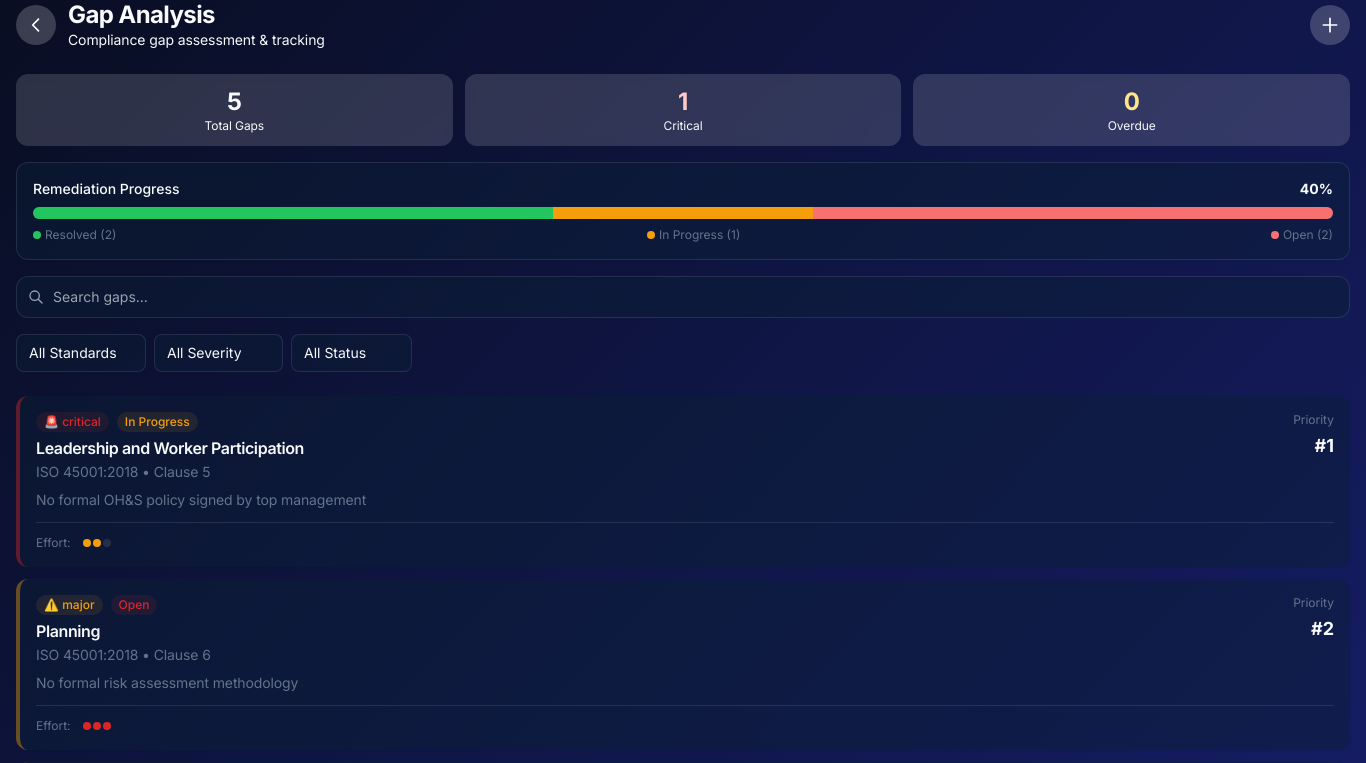
it: ComplianceGapAnalysis › filtering › shows empty state when search matches nothing
Type "zzzznoexist12345" into the field with placeholder "Search gaps..." at [683, 297], box left=16, top=276, right=1350, bottom=318
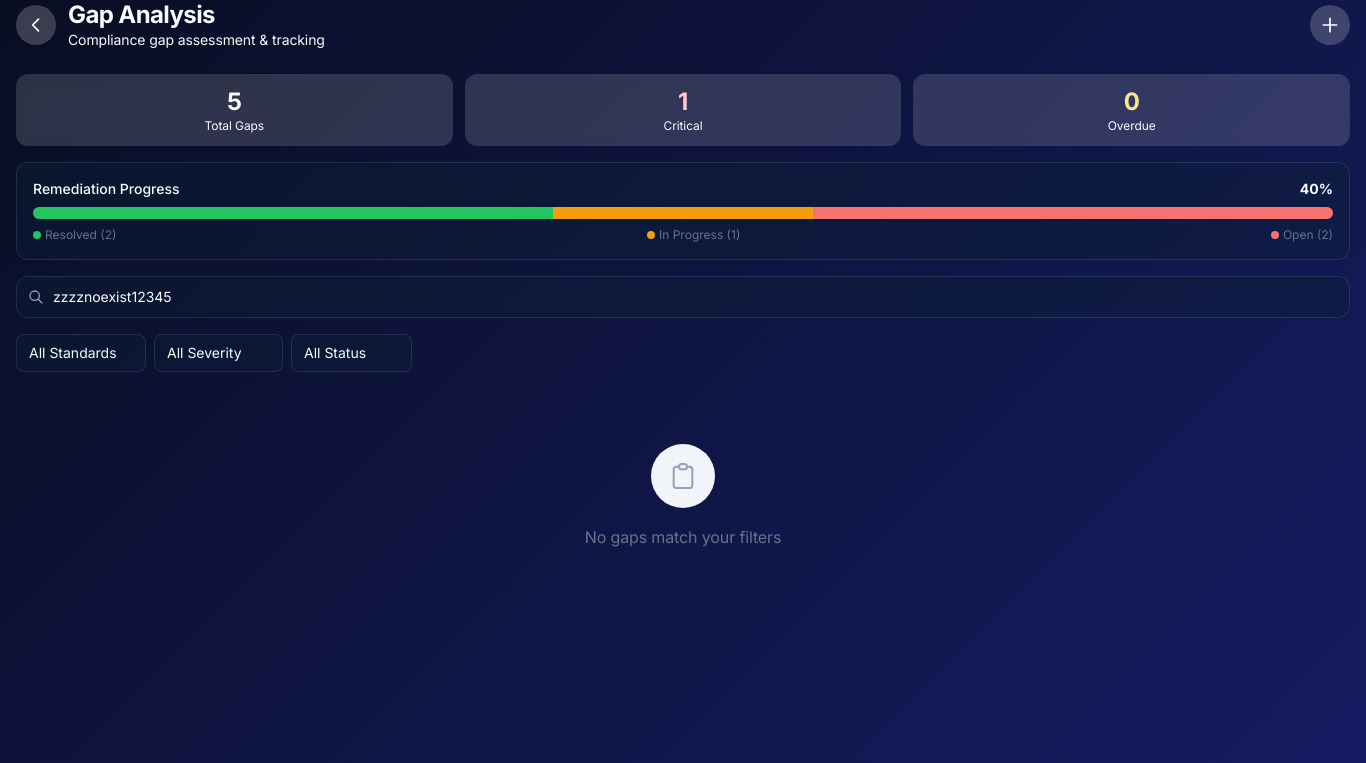
Now the text "No gaps match your filters" is shown, box left=585, top=527, right=781, bottom=547
